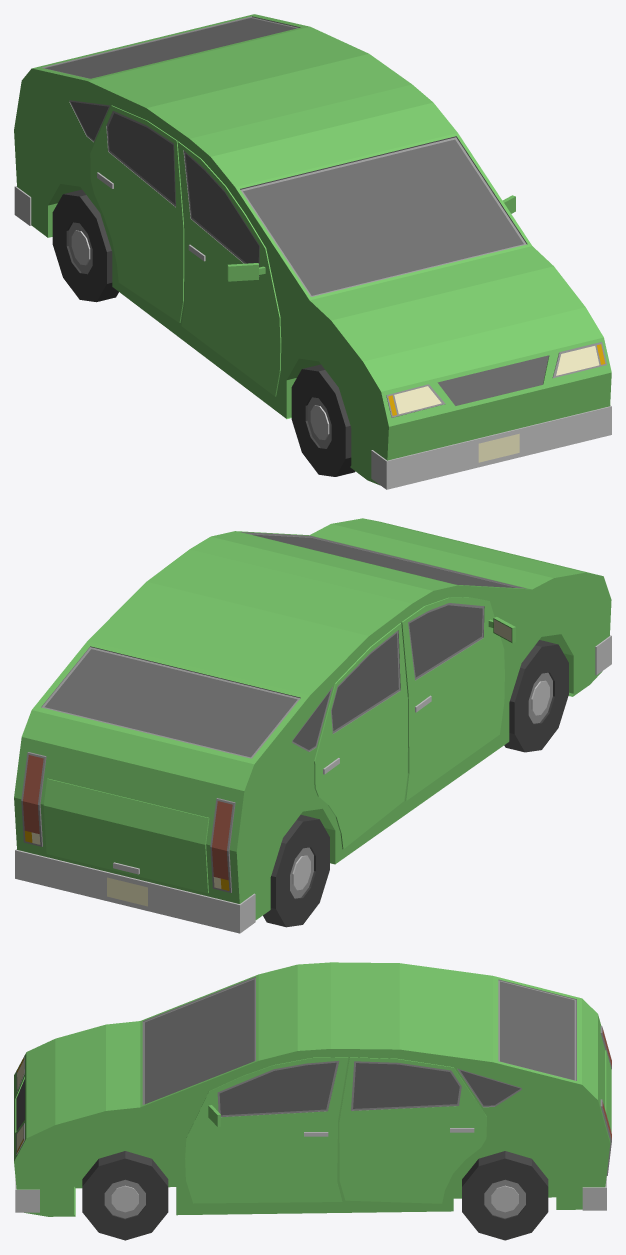
The model's file is car of the future_2.fbx.
3 views of the same model, one above another, from view 1: azimuth 30°, elevation 25°; view 2: azimuth 150°, elevation 25°; view 3: azimuth 270°, elevation 25° (orthographic). The views are drawn at different scales.
Visible parts, largest first — view 1: fs, Cylinder_2_3, Cylinder_2_1; view 2: fs, Cylinder_2_3, Cylinder_2_1; view 3: fs, Cylinder_2_2, Cylinder_2.
Boxes of the visible parts, box(x1,y1,x2,y2) form: fs: box(14, 14, 611, 489); Cylinder_2_3: box(52, 189, 118, 302); Cylinder_2_1: box(291, 364, 355, 476); fs: box(14, 518, 611, 933); Cylinder_2_3: box(263, 814, 329, 927); Cylinder_2_1: box(504, 640, 568, 752); fs: box(14, 962, 611, 1216); Cylinder_2_2: box(462, 1151, 548, 1240); Cylinder_2: box(82, 1151, 168, 1240).
Size of the model in its own units: 169 by 135 by 383.
